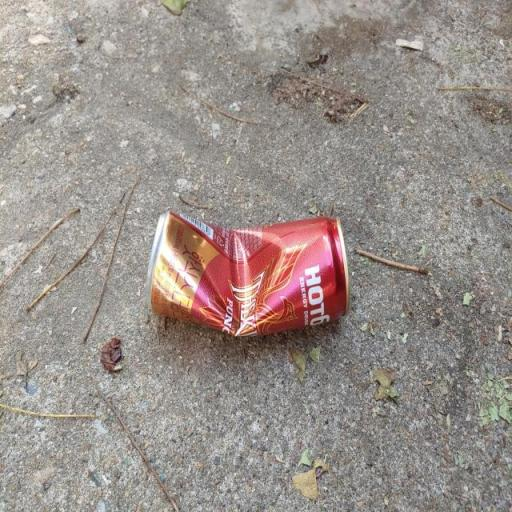metal: (126, 167, 390, 373)
